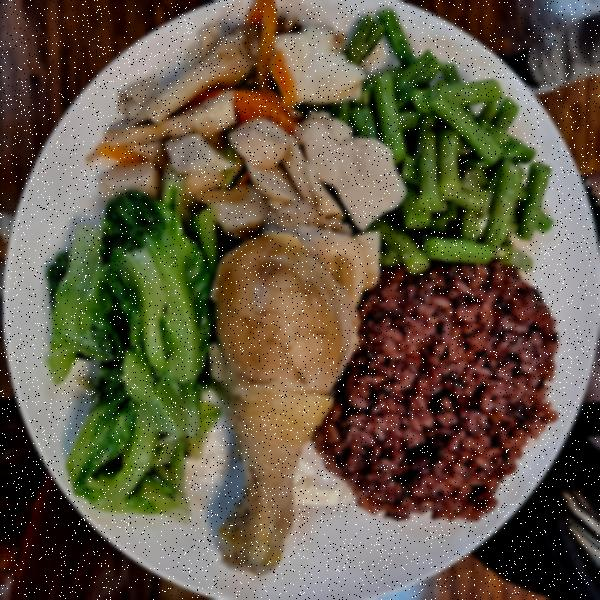plate: (0, 0, 599, 592)
purple rice: (315, 256, 567, 526)
side dish: (116, 12, 397, 252), (56, 186, 232, 524), (350, 17, 558, 266)
small herbal chicken leg: (196, 240, 364, 577)
